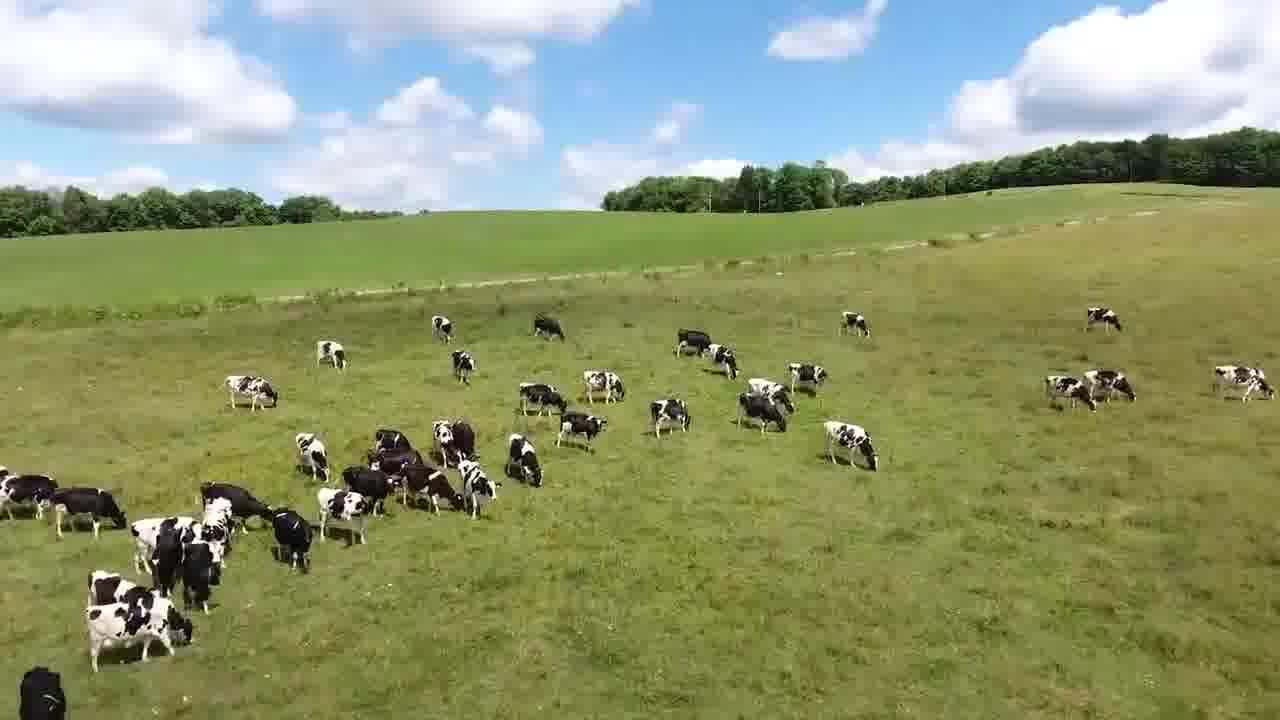cow: (85, 562, 201, 651), (82, 592, 187, 676), (46, 483, 130, 542), (196, 475, 276, 531), (819, 415, 884, 476), (129, 513, 199, 568), (318, 486, 379, 547), (12, 657, 71, 720), (1211, 358, 1278, 411), (405, 467, 470, 518), (269, 500, 313, 572), (0, 470, 62, 520), (499, 431, 548, 490), (1043, 369, 1101, 418), (217, 372, 284, 414), (455, 463, 501, 521), (182, 539, 219, 610), (552, 410, 609, 456), (734, 392, 791, 435), (345, 464, 398, 510), (153, 516, 186, 587), (1082, 368, 1143, 406), (515, 378, 571, 416), (745, 376, 798, 416), (580, 365, 629, 407), (294, 430, 334, 480), (649, 397, 694, 440), (787, 360, 832, 395), (670, 324, 714, 359), (706, 343, 743, 382), (312, 339, 352, 374), (1085, 304, 1123, 339), (836, 308, 873, 342), (447, 349, 481, 386), (453, 415, 479, 463), (532, 315, 569, 344), (429, 311, 457, 347), (374, 422, 413, 446), (433, 415, 454, 453)
